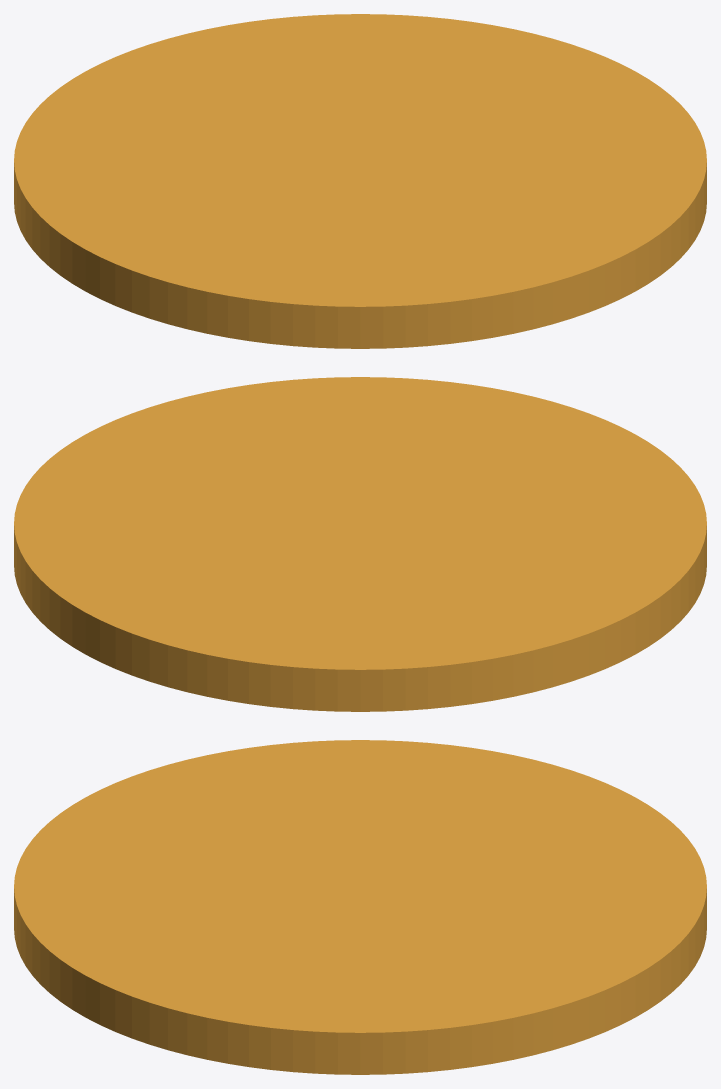
The model's file is si-keilat-1-5-uniryyn-Alusta1.fbx.
The picture shows the model from 3 angles, top to bottom: view 1: azimuth 30°, elevation 25°; view 2: azimuth 150°, elevation 25°; view 3: azimuth 270°, elevation 25°; orthographic projection.
Visible parts, largest first — view 1: Cylinder.004; view 2: Cylinder.004; view 3: Cylinder.004.
Boxes of the visible parts, bbox=[...] form: Cylinder.004: bbox=[14, 14, 706, 348]; Cylinder.004: bbox=[14, 377, 706, 711]; Cylinder.004: bbox=[14, 740, 706, 1074].
Bounding box in the file's own units: 358 × 24 × 358.
